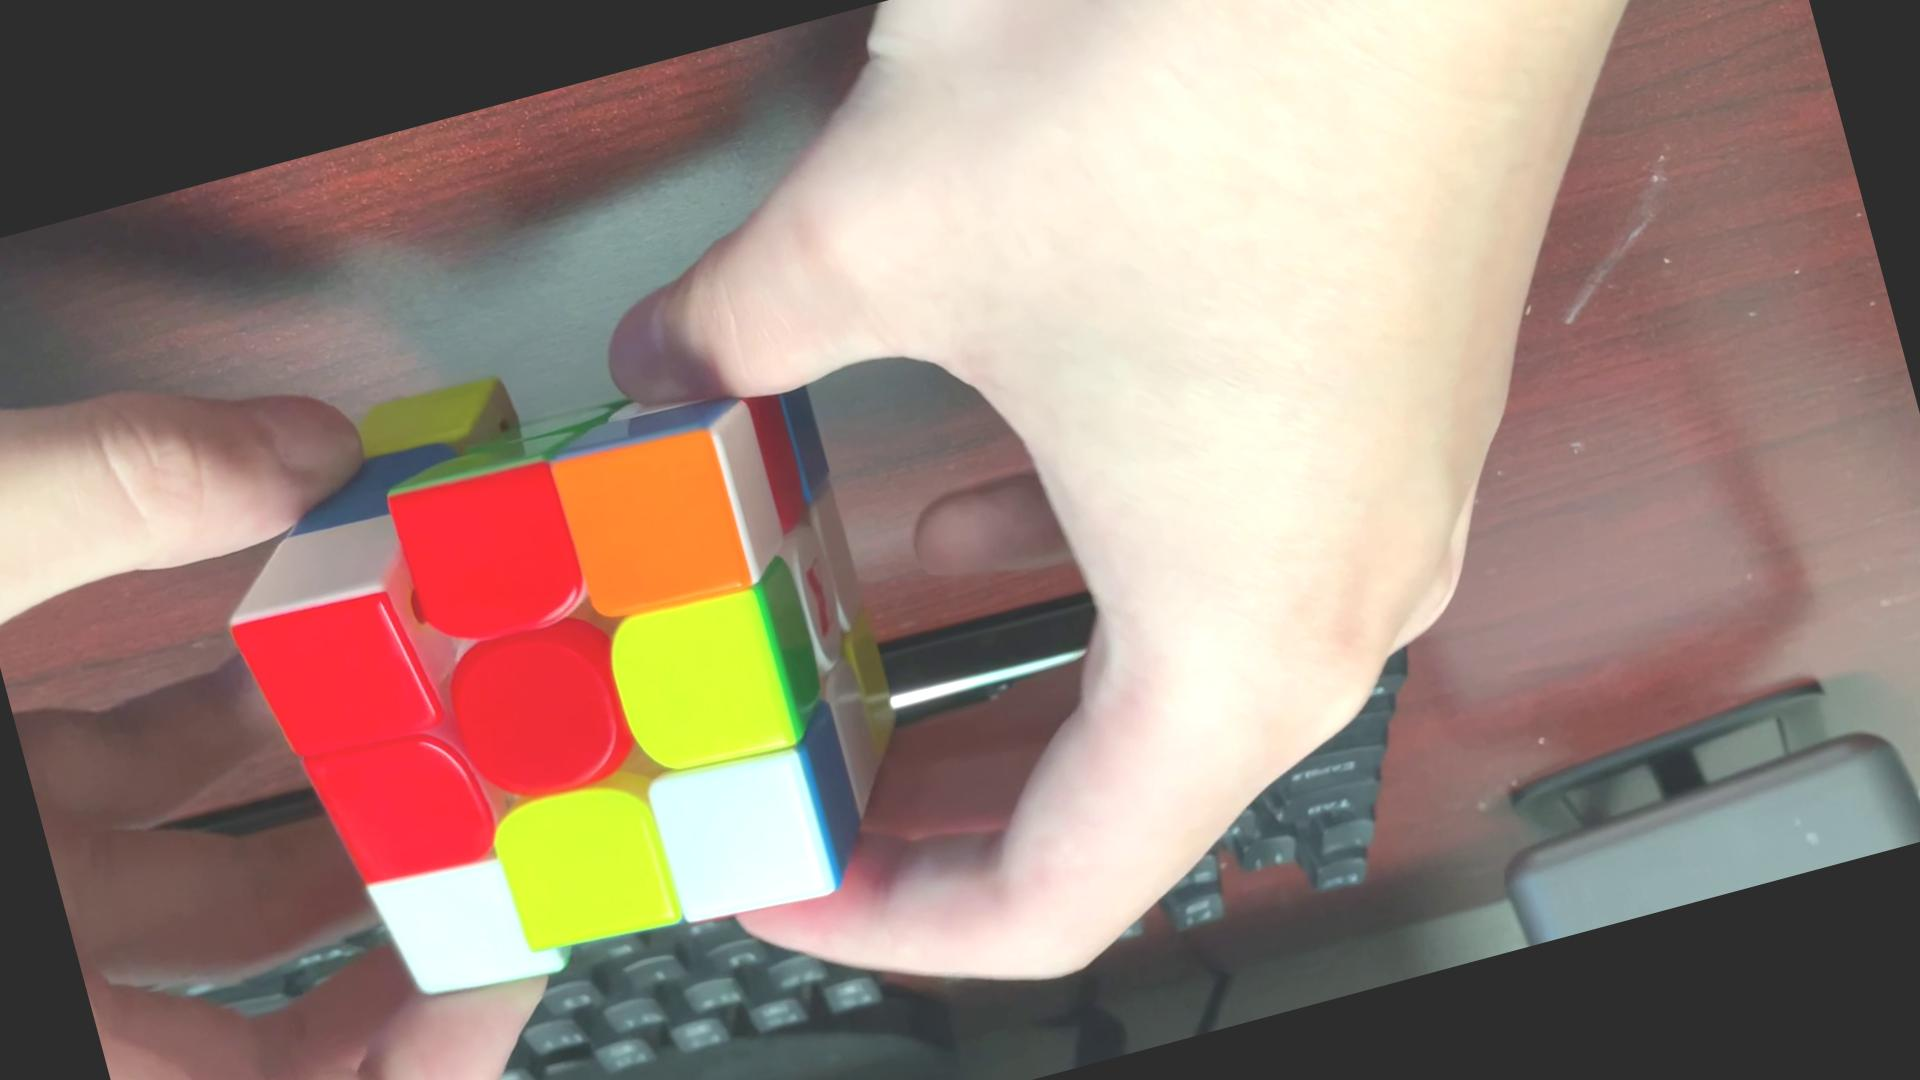Rubiks-Cube: (166, 284, 965, 1035)
